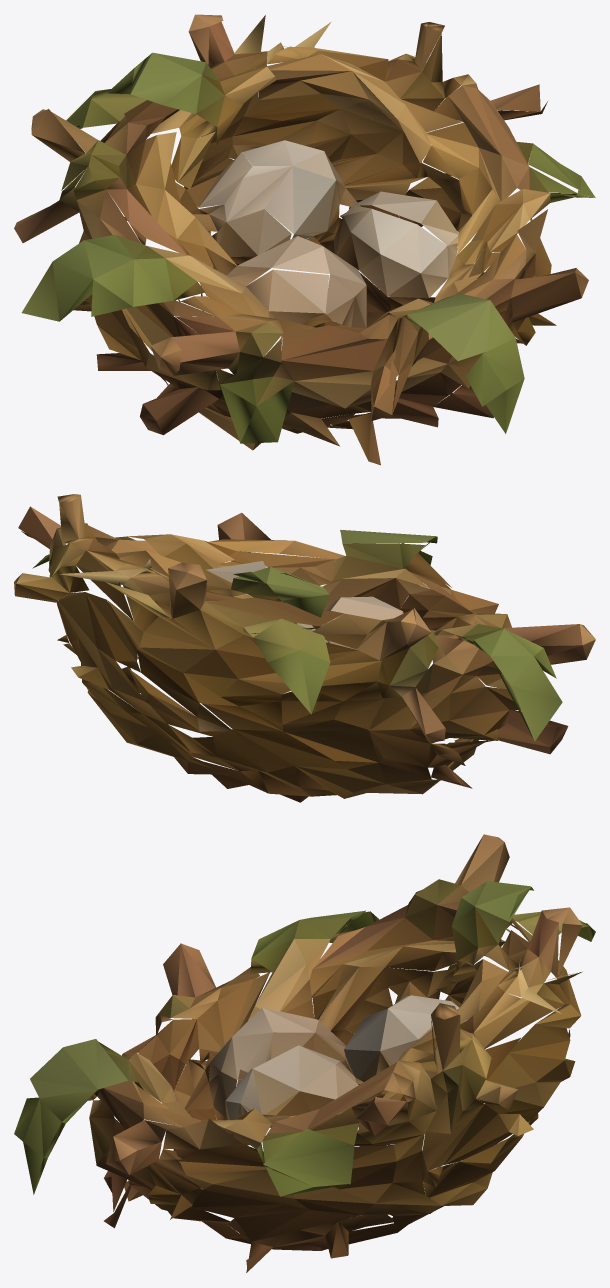
File: animal-nest.glb
3 renders of one model, top to bottom at view 1: azimuth 30°, elevation 25°; view 2: azimuth 150°, elevation 25°; view 3: azimuth 270°, elevation 25°, orthographic. The views are drawn at different scales.
Parts seen in each view (by area): view 1: 0_nest; view 2: 0_nest; view 3: 0_nest.
Boxes of the visible parts, x1,y1,x2,y2 form: 0_nest: (14,14,595,465); 0_nest: (14,494,595,802); 0_nest: (14,834,595,1272).
Size of the model in its own units: 0.4973 by 0.2728 by 0.4535.
